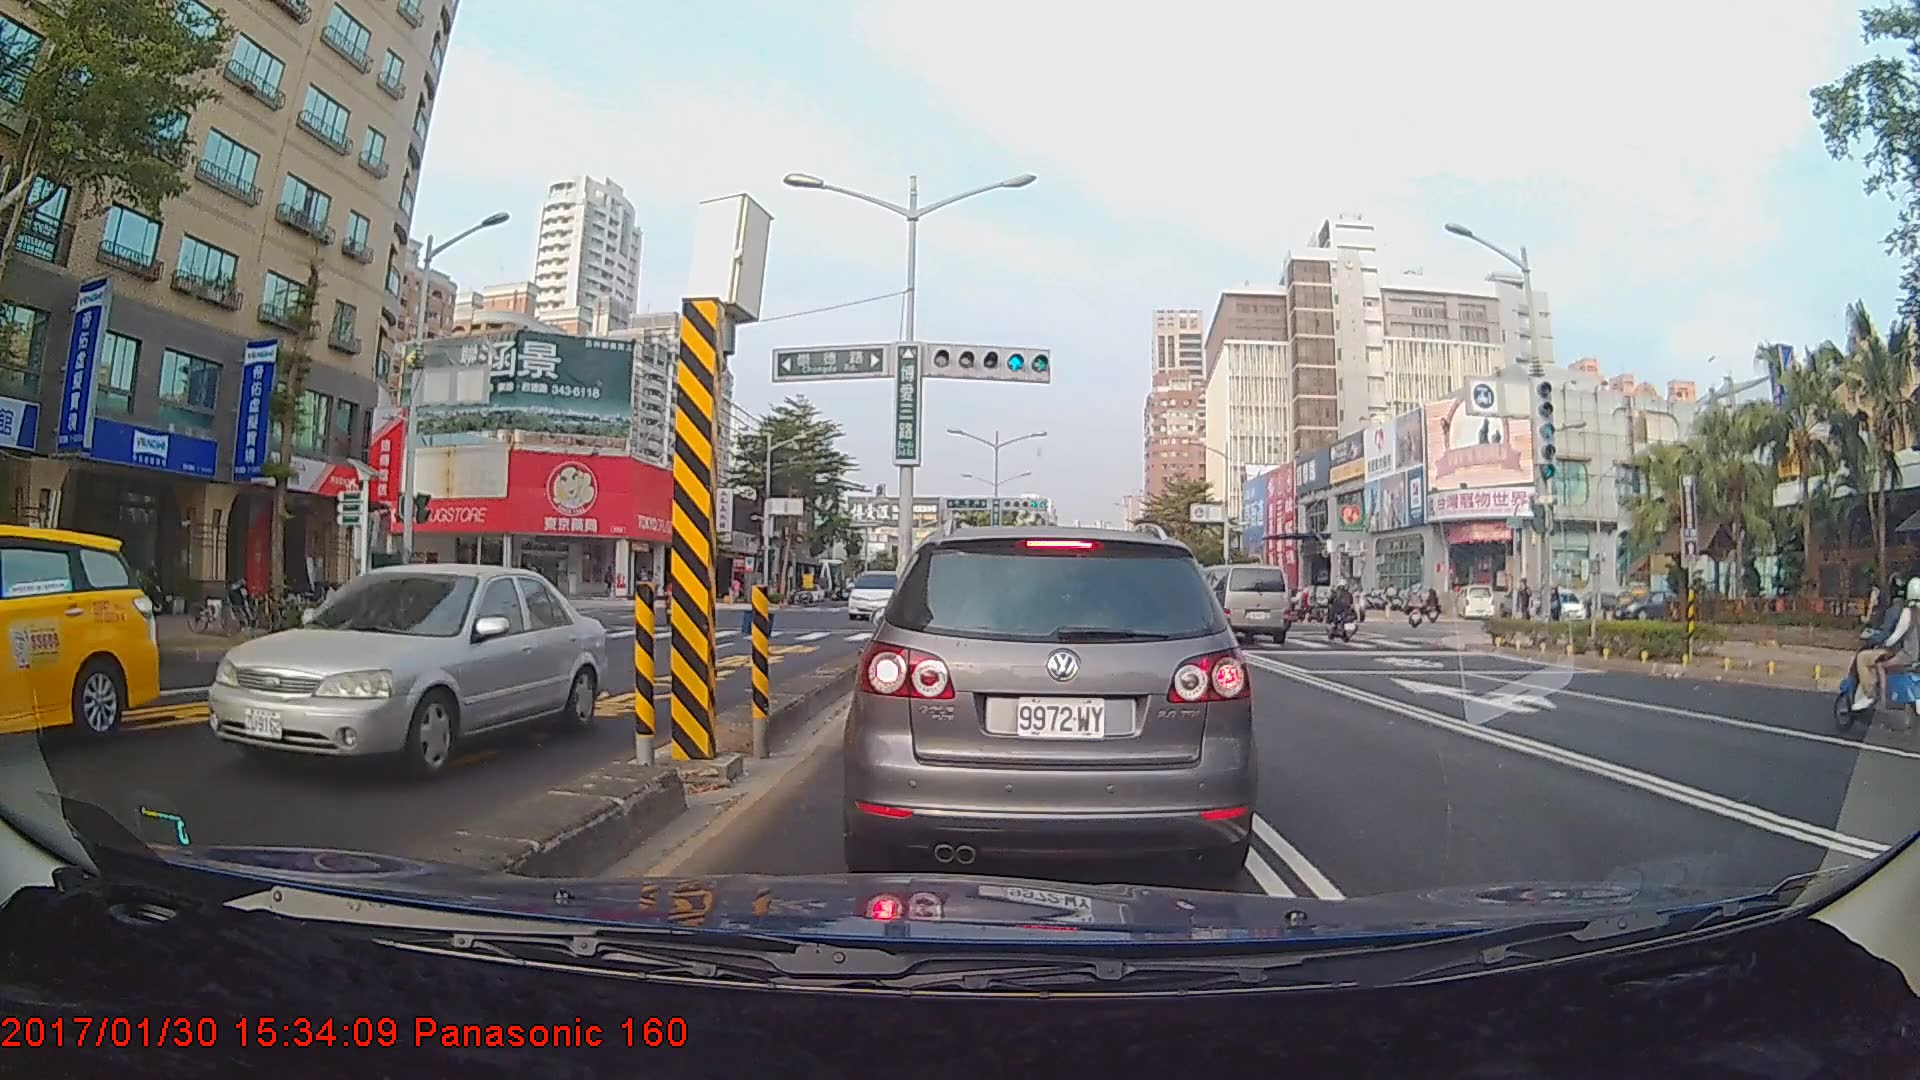rider: (1826, 568, 1920, 738), (1326, 578, 1365, 648), (1400, 582, 1425, 634)
vehicle: (854, 518, 1250, 881), (205, 559, 608, 784), (0, 521, 157, 752), (1181, 562, 1292, 646), (845, 569, 913, 619)
